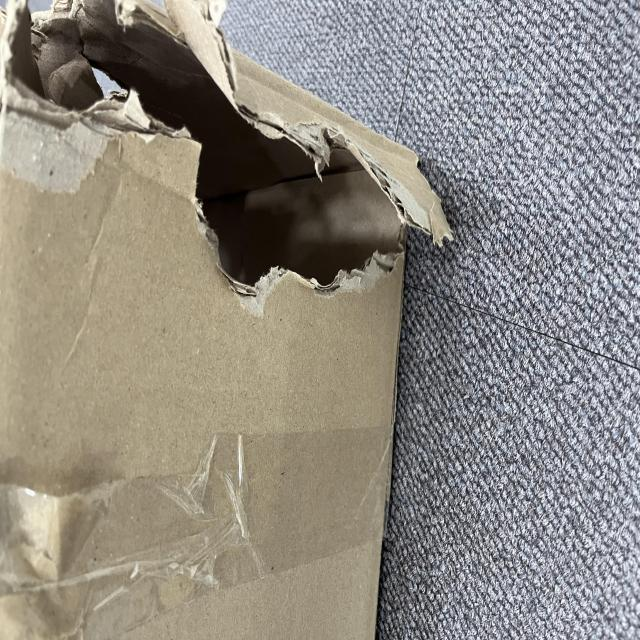damaged: (260, 2, 472, 546)
